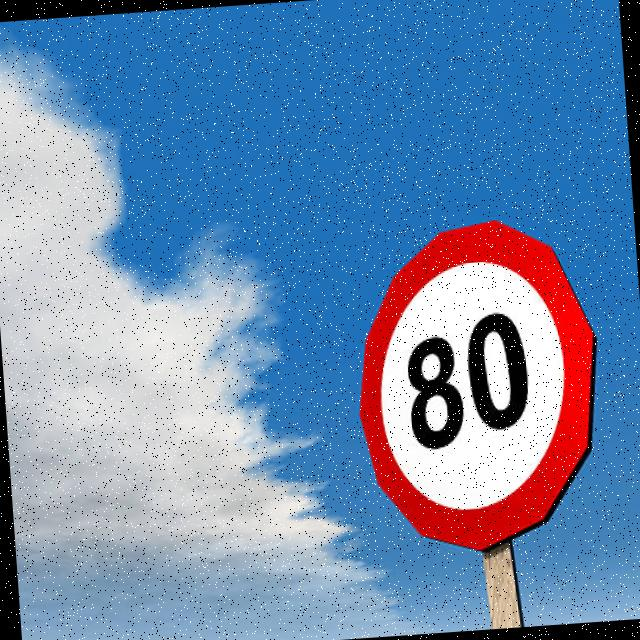speed_limit_80: (351, 215, 604, 562)
